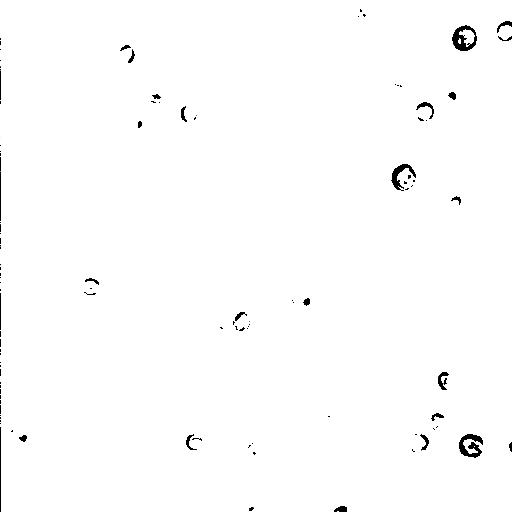micro-algae: (151, 0, 271, 69), (335, 58, 389, 113), (416, 457, 471, 511), (358, 90, 414, 143), (16, 251, 69, 301), (369, 5, 411, 51), (483, 417, 511, 473), (385, 133, 415, 165), (117, 111, 147, 141), (8, 419, 38, 449), (451, 23, 477, 53), (439, 79, 463, 111), (389, 164, 416, 192), (457, 432, 485, 458), (131, 1, 167, 21), (121, 339, 145, 364), (231, 309, 254, 335), (355, 0, 382, 22), (383, 79, 411, 100), (295, 288, 318, 313), (245, 439, 271, 461), (409, 432, 430, 455), (179, 103, 199, 125), (413, 101, 433, 121), (495, 19, 511, 43), (57, 301, 77, 320), (437, 371, 456, 391), (79, 277, 100, 295), (428, 412, 447, 431), (117, 44, 134, 65), (237, 500, 263, 512), (186, 434, 203, 449), (329, 503, 351, 512), (447, 195, 461, 208), (505, 437, 511, 455)
